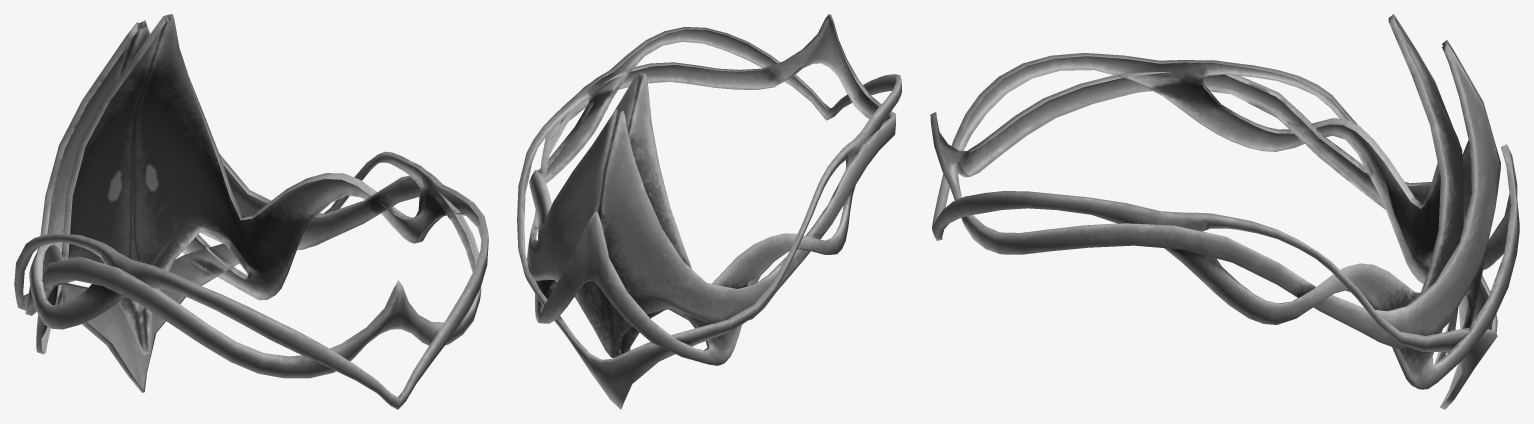
The model's file is rivendell_helmet_lord_circlet_silver.fbx.
3 views of the same model, side by side, from view 1: azimuth 30°, elevation 25°; view 2: azimuth 150°, elevation 25°; view 3: azimuth 270°, elevation 25° (orthographic). The views are drawn at different scales.
Parts seen in each view (by area): view 1: rivendell_helmet_lord_circlet_silver; view 2: rivendell_helmet_lord_circlet_silver; view 3: rivendell_helmet_lord_circlet_silver.
Boxes of the visible parts, bbox=[...] form: rivendell_helmet_lord_circlet_silver: bbox=[14, 14, 488, 409]; rivendell_helmet_lord_circlet_silver: bbox=[517, 14, 901, 409]; rivendell_helmet_lord_circlet_silver: bbox=[930, 14, 1519, 409].
Size of the model in its own units: 0.1821 by 0.257 by 0.1897.
1 material, 1 textured.
